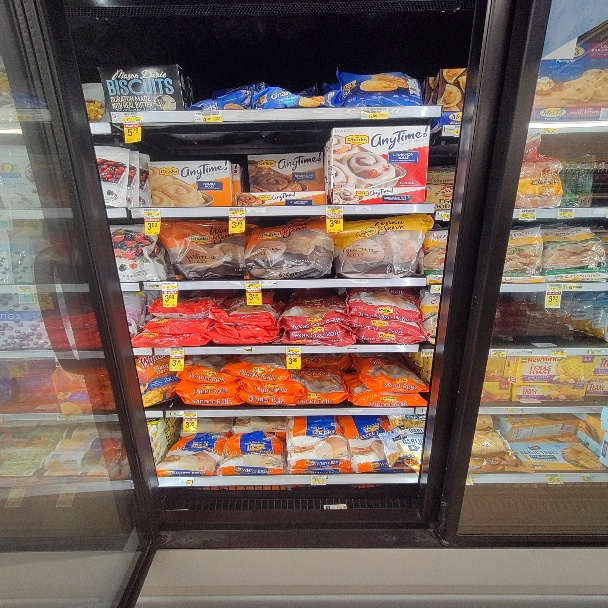All PRICE TAGS: (361, 108, 389, 119), (194, 110, 222, 121), (544, 473, 562, 483), (56, 413, 77, 421), (558, 209, 574, 219), (522, 209, 536, 220), (123, 112, 140, 121), (311, 475, 327, 484), (142, 209, 160, 217), (326, 206, 343, 214), (228, 208, 245, 216), (182, 410, 198, 418), (246, 281, 261, 289), (169, 347, 185, 354), (161, 282, 177, 289), (144, 282, 160, 289), (552, 349, 566, 356), (548, 284, 562, 291), (236, 347, 252, 353), (582, 473, 594, 481), (349, 408, 364, 414), (285, 346, 300, 352), (589, 348, 604, 354), (270, 410, 287, 415), (399, 343, 413, 349), (493, 350, 505, 357), (566, 284, 581, 289), (423, 349, 433, 356), (444, 211, 449, 219), (434, 285, 440, 291)
